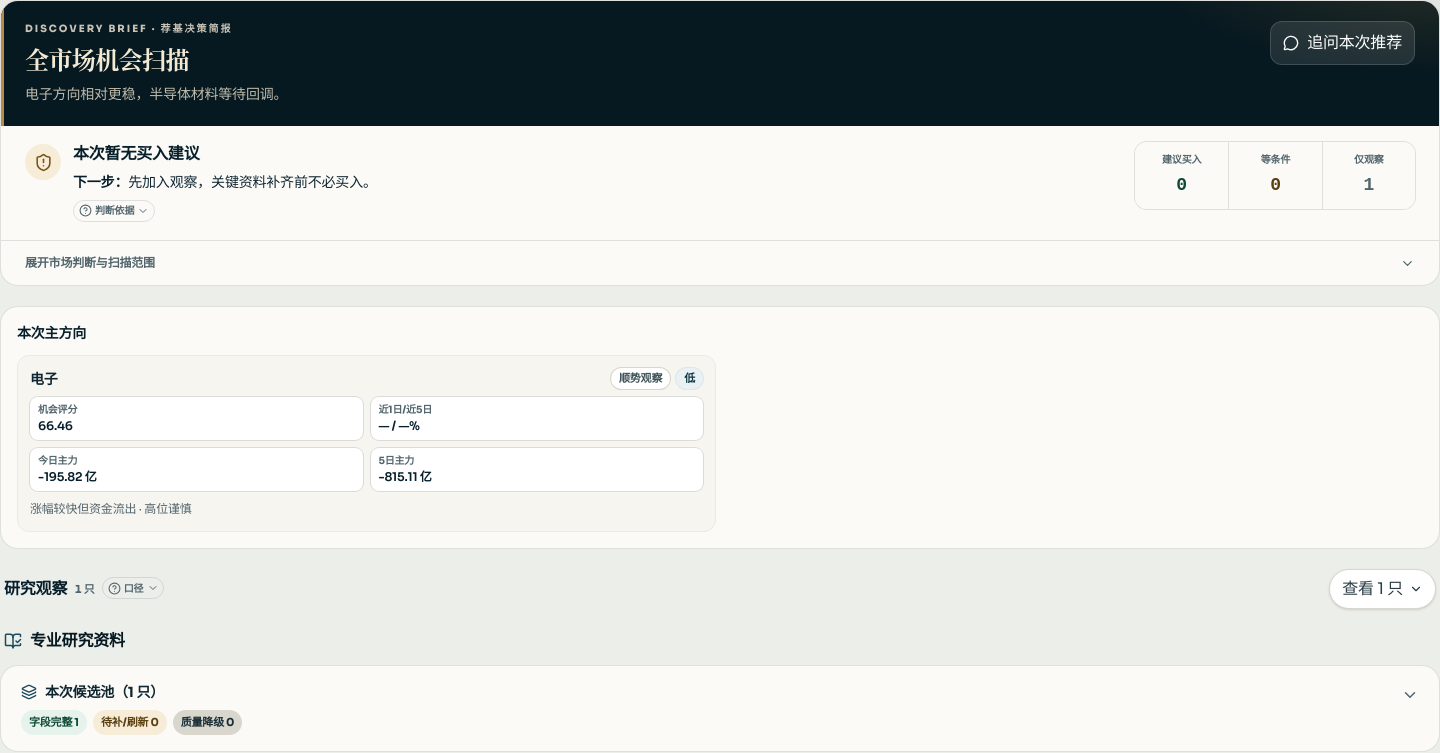
Test case: DiscoveryReportPanel › does not let a high recall score override a pending sector identity
expect the heading "本次暂无买入建议" is shown: met, box [73, 143, 200, 164]
Click the button "查看 1 只" at {"x": 1383, "y": 590}, box [1329, 570, 1436, 610]
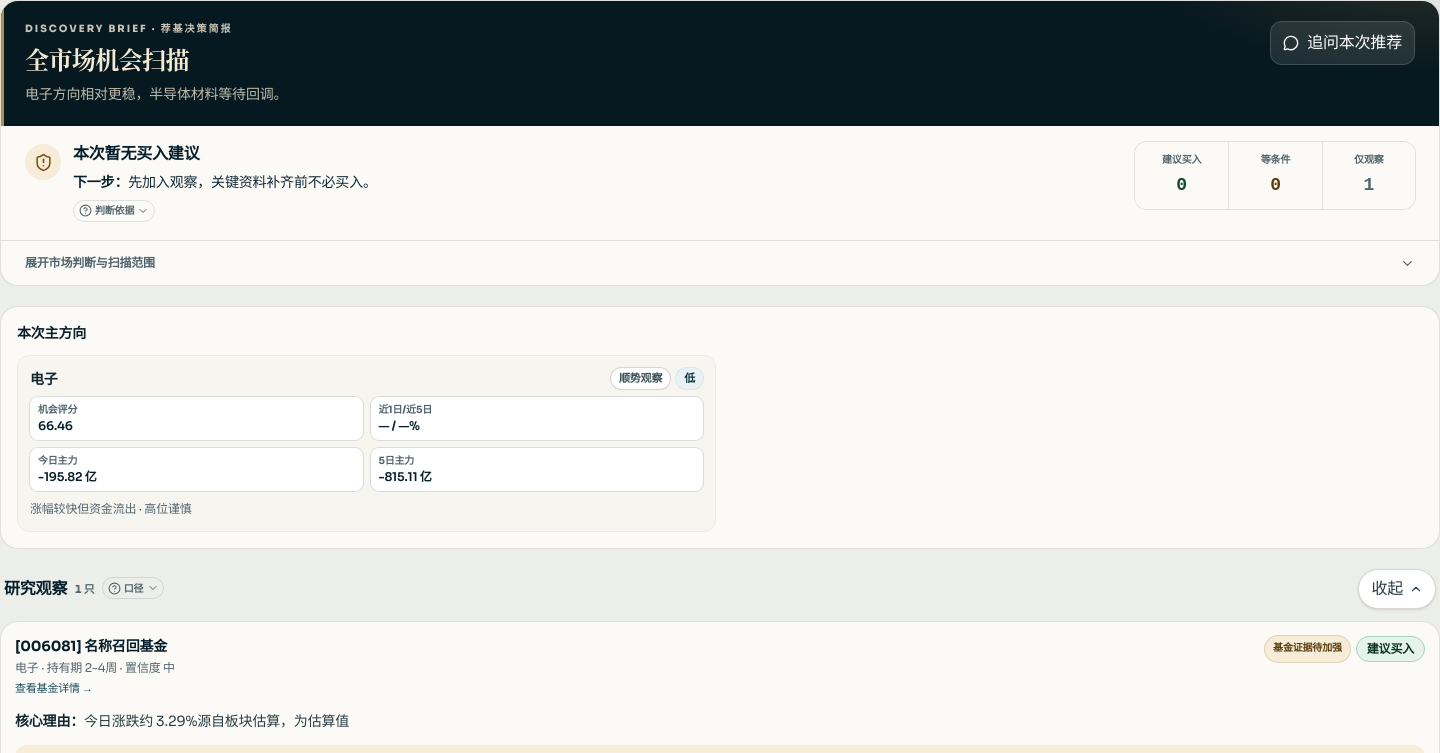
expect the text "基金证据待加强" is shown: met, box [1265, 636, 1350, 662]
